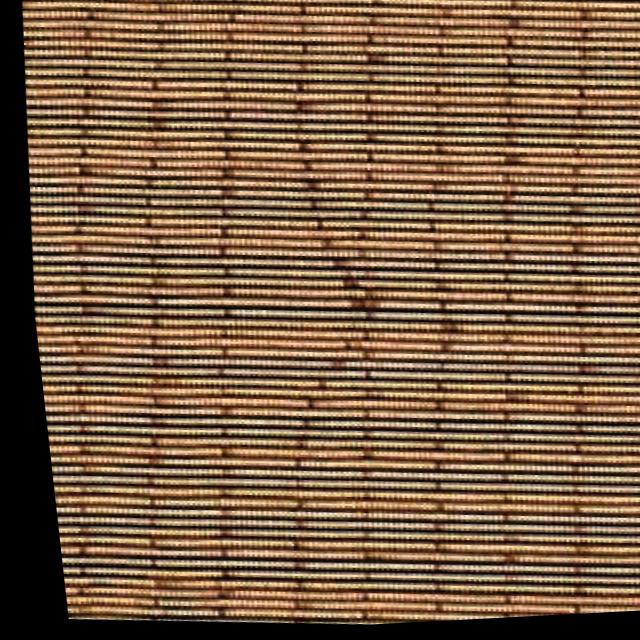Stitch: (225, 141, 411, 489)
